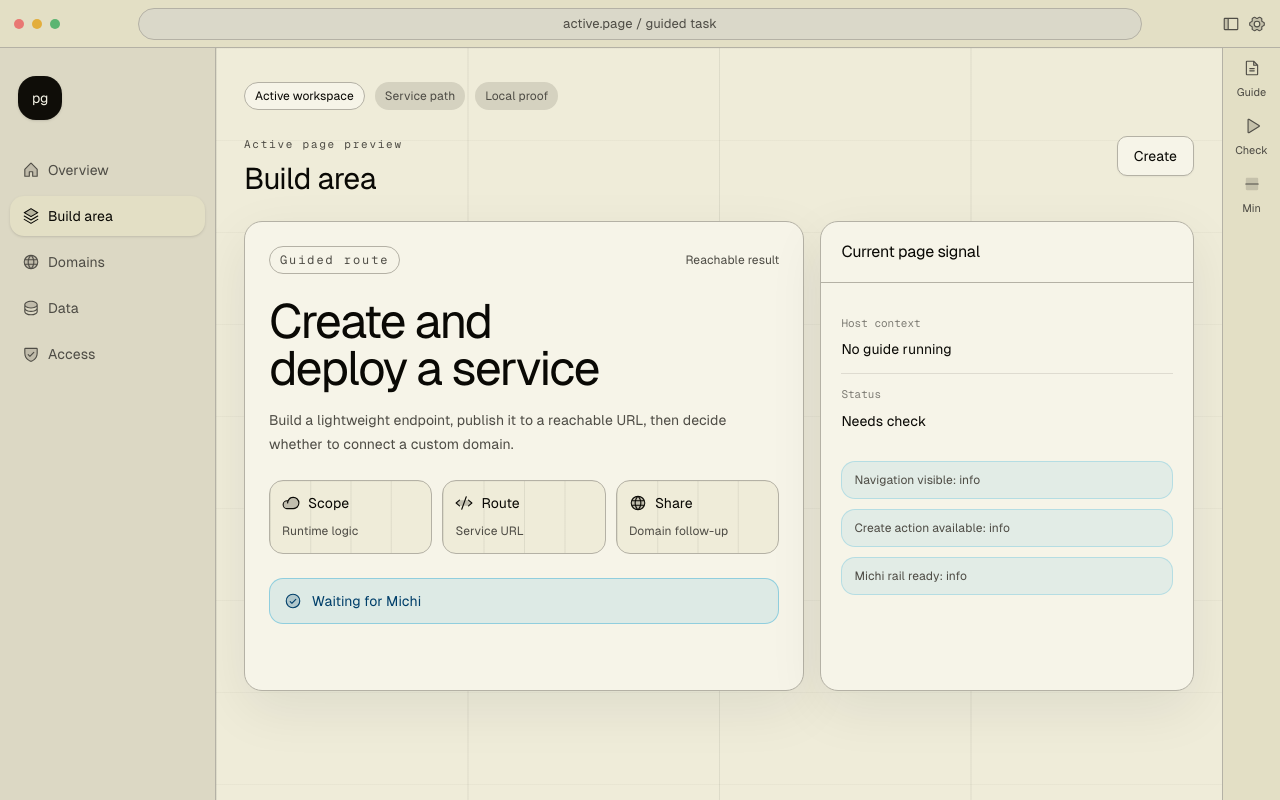
Test case: Michi app › shows first-run readiness as needing a check before extension page context is read
Click the button "Guide" at x=1252, y=80, box [1231, 56, 1272, 104]
(page scrolled)
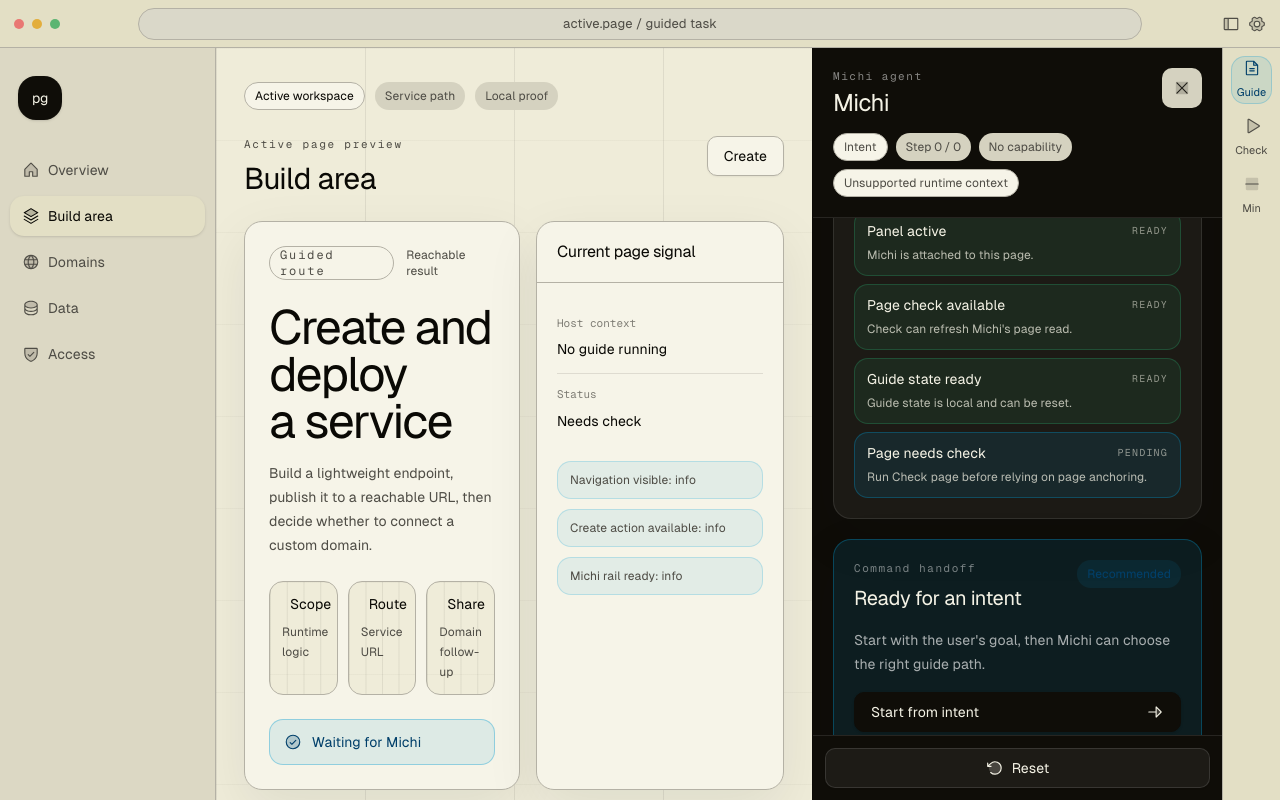
Check: the text "Page needs check" is shown, box [867, 442, 986, 462]
Check: the text "Run Check page before relying on page anchoring." is shown, box [867, 466, 1168, 486]
